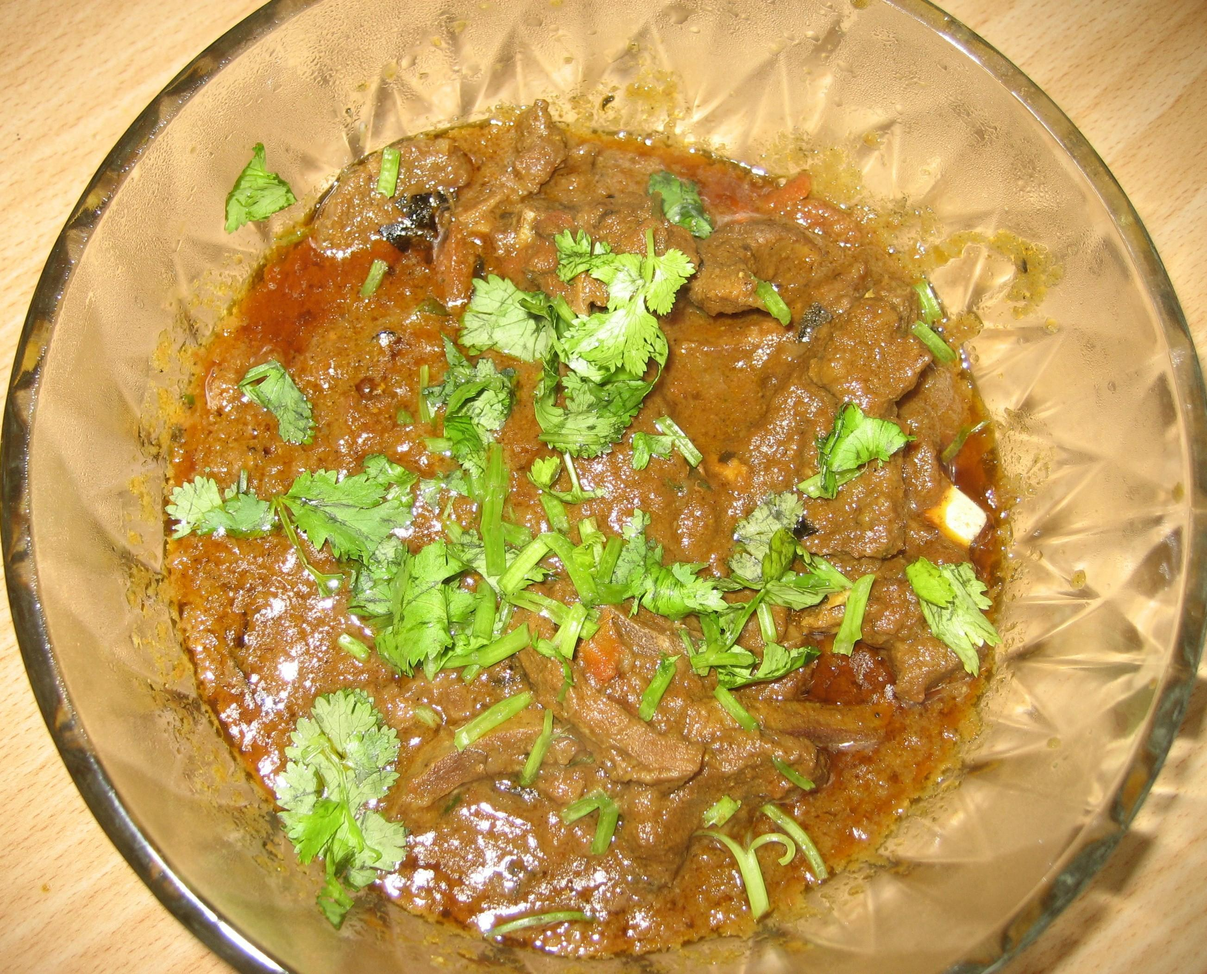MuttonCurry: (163, 118, 997, 958)
